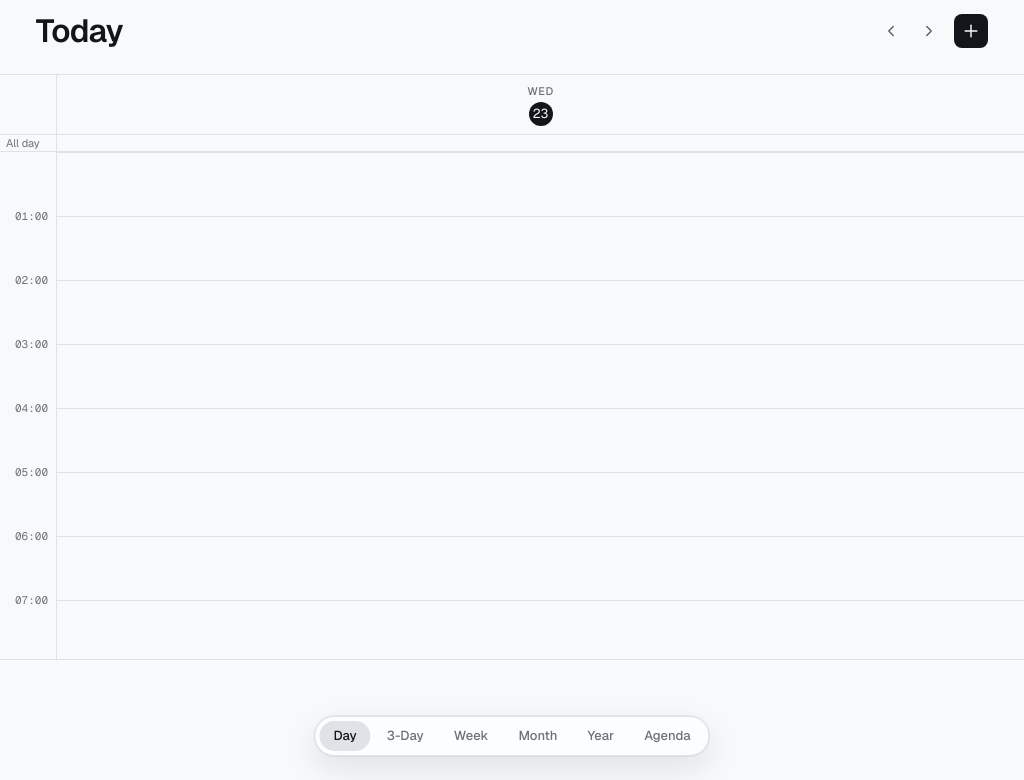
Test: CalendarBoard › clicking a day in Month view switches to that day in Day view
Click the tab "Month".
click(538, 736)  # box x1=504 y1=721 x2=571 y2=751
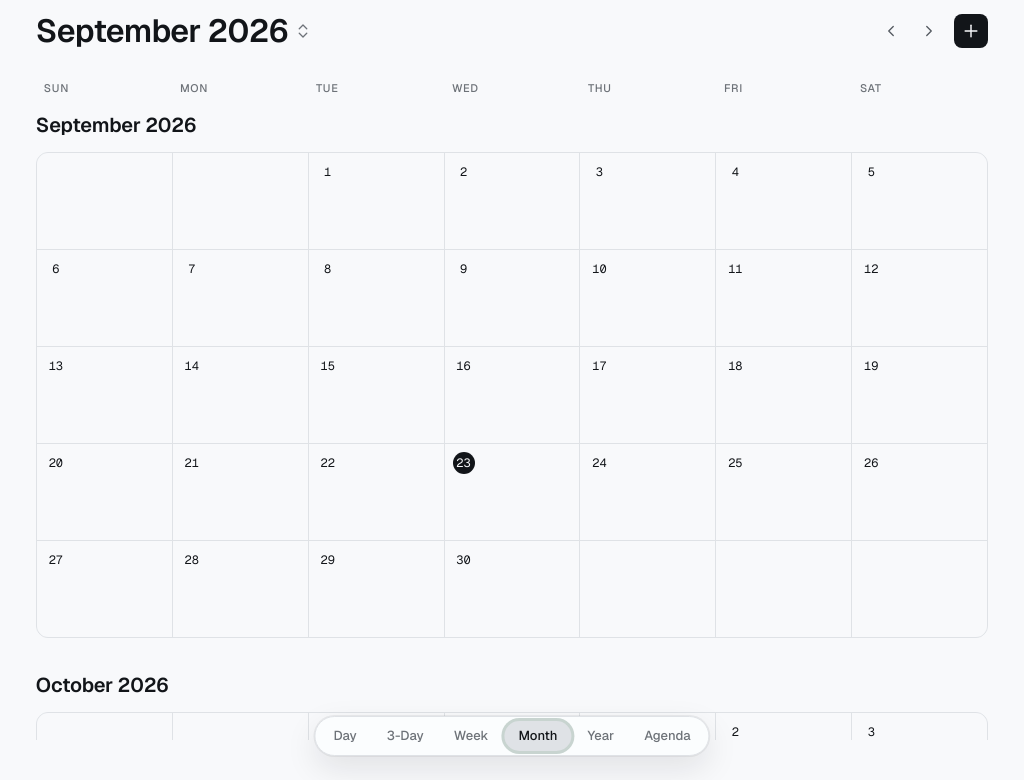
Click the element showing "24".
click(648, 492)  # box x1=580 y1=444 x2=715 y2=540
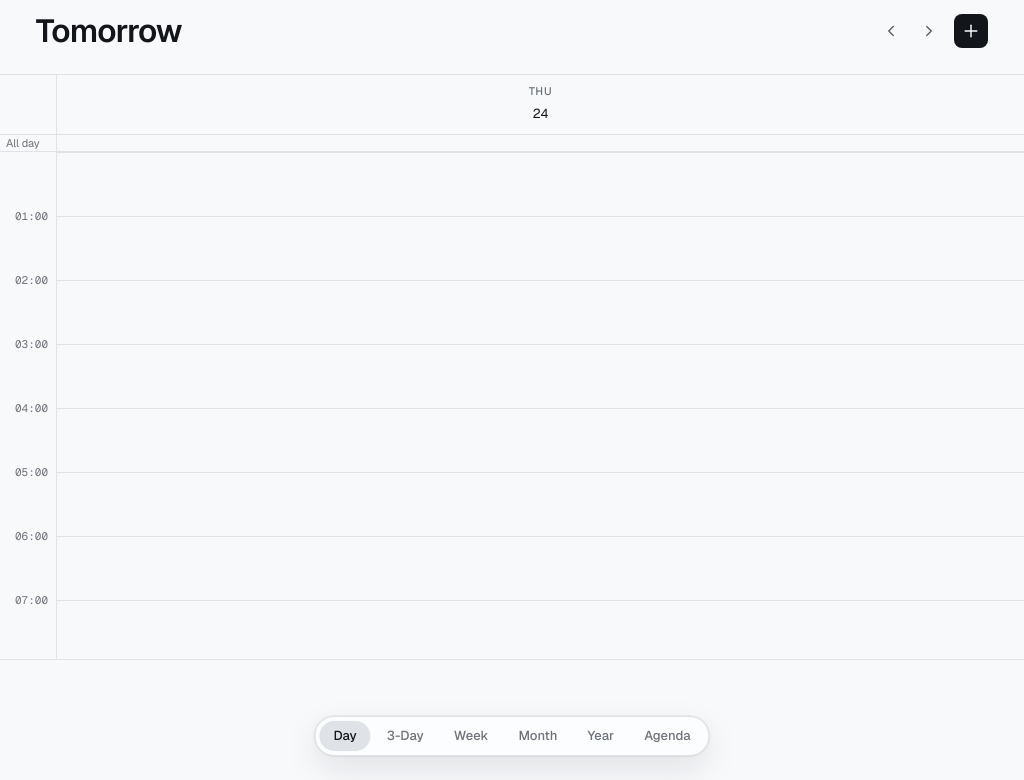
Check: the button "Tomorrow" is shown, box x1=36 y1=12 x2=182 y2=50
